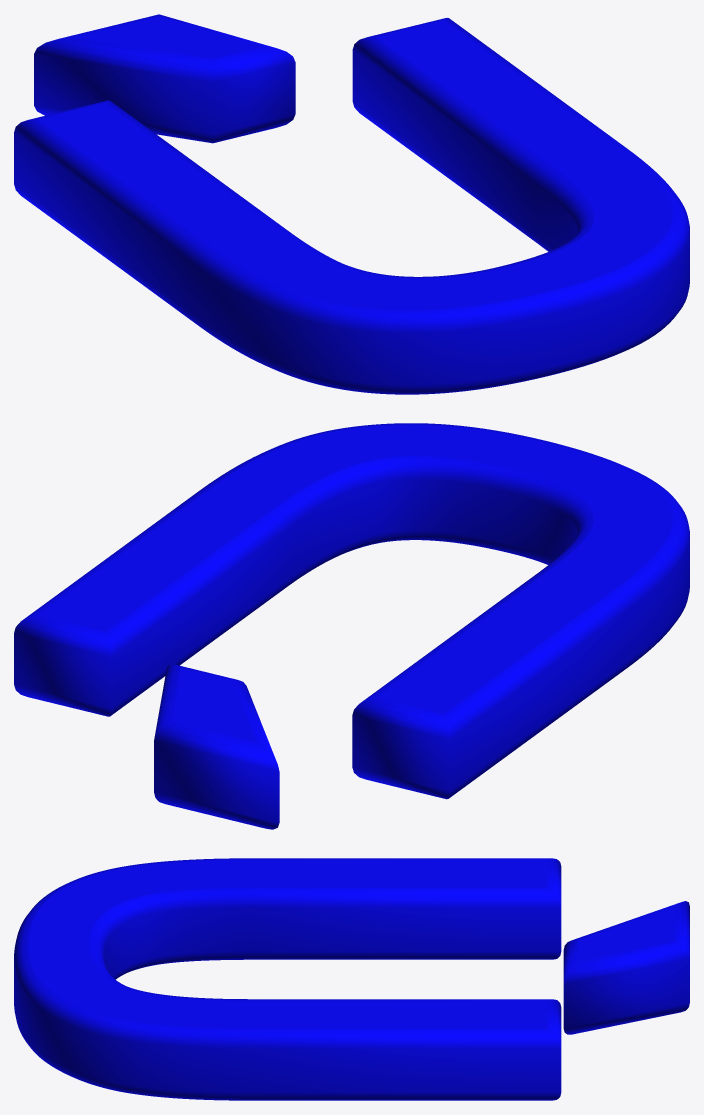
The picture shows the model from 3 angles, top to bottom: view 1: azimuth 30°, elevation 25°; view 2: azimuth 150°, elevation 25°; view 3: azimuth 270°, elevation 25°; orthographic projection. The views are drawn at different scales.
Visible parts, largest first — view 1: 217; view 2: 217; view 3: 217.
Part boxes in pixels (left/top/right/bottom): 217: left=14, top=14, right=689, bottom=394; 217: left=14, top=423, right=689, bottom=829; 217: left=14, top=858, right=689, bottom=1100.
Bounding box in the file's own units: 0.8868 × 0.16 × 1.39.
